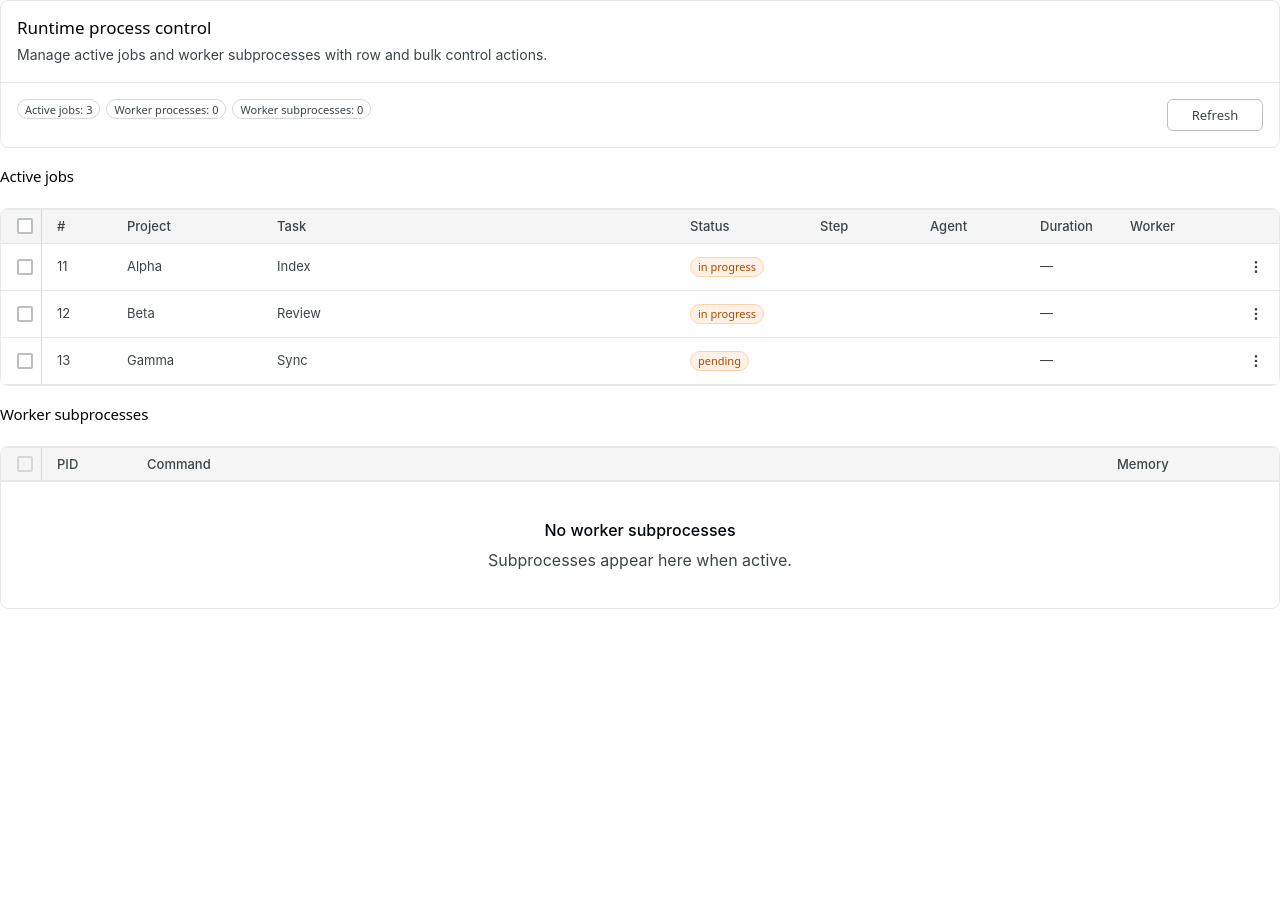
Test: ProcessesControlPanel › asks before cancelling a job and names it as an irreversible action
Click the button named "Actions for job 12". click: (1256, 314)
box: top-left (1240, 298), bottom-right (1272, 330)
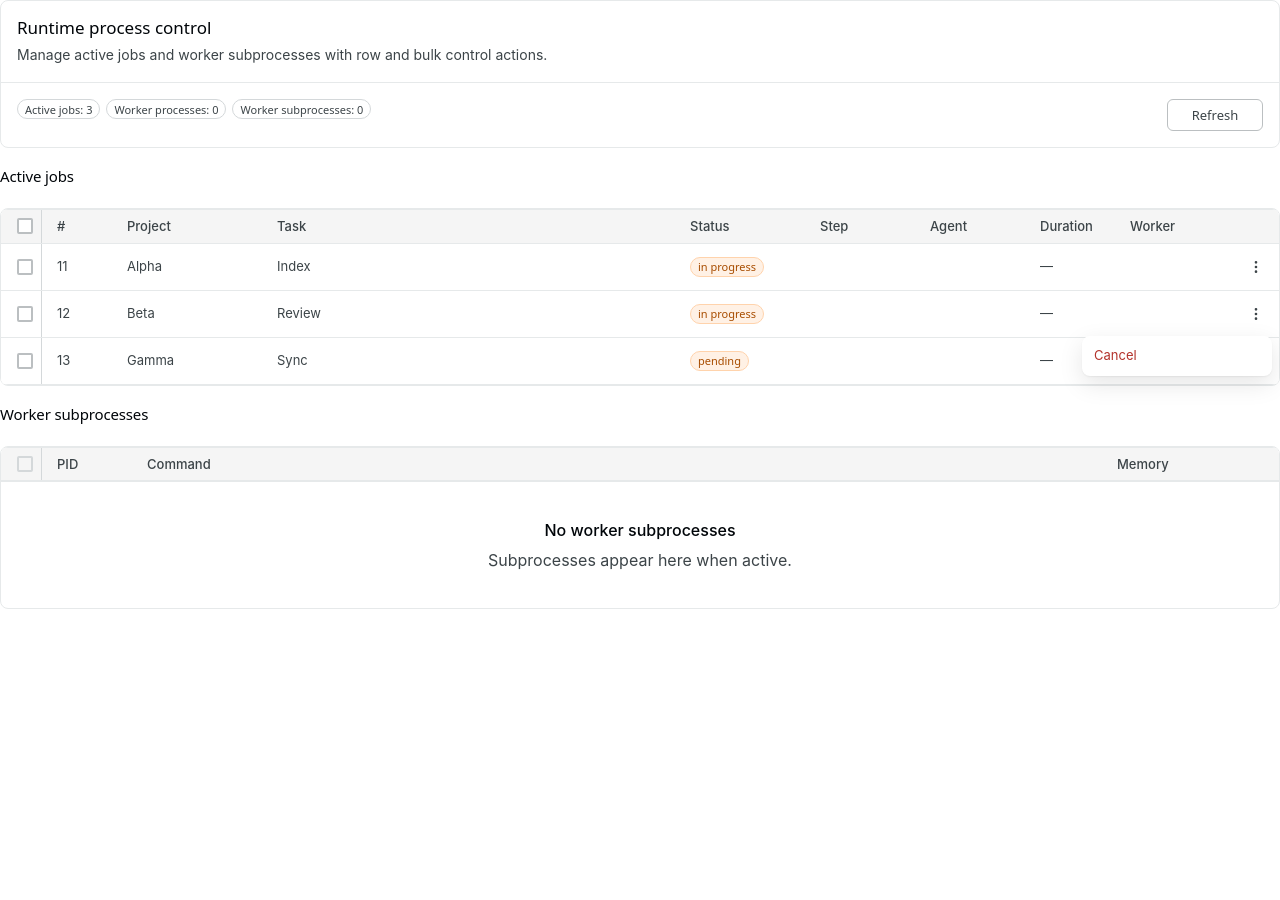
Click the menu item "Cancel". click: (1177, 356)
box: top-left (1086, 340), bottom-right (1268, 372)
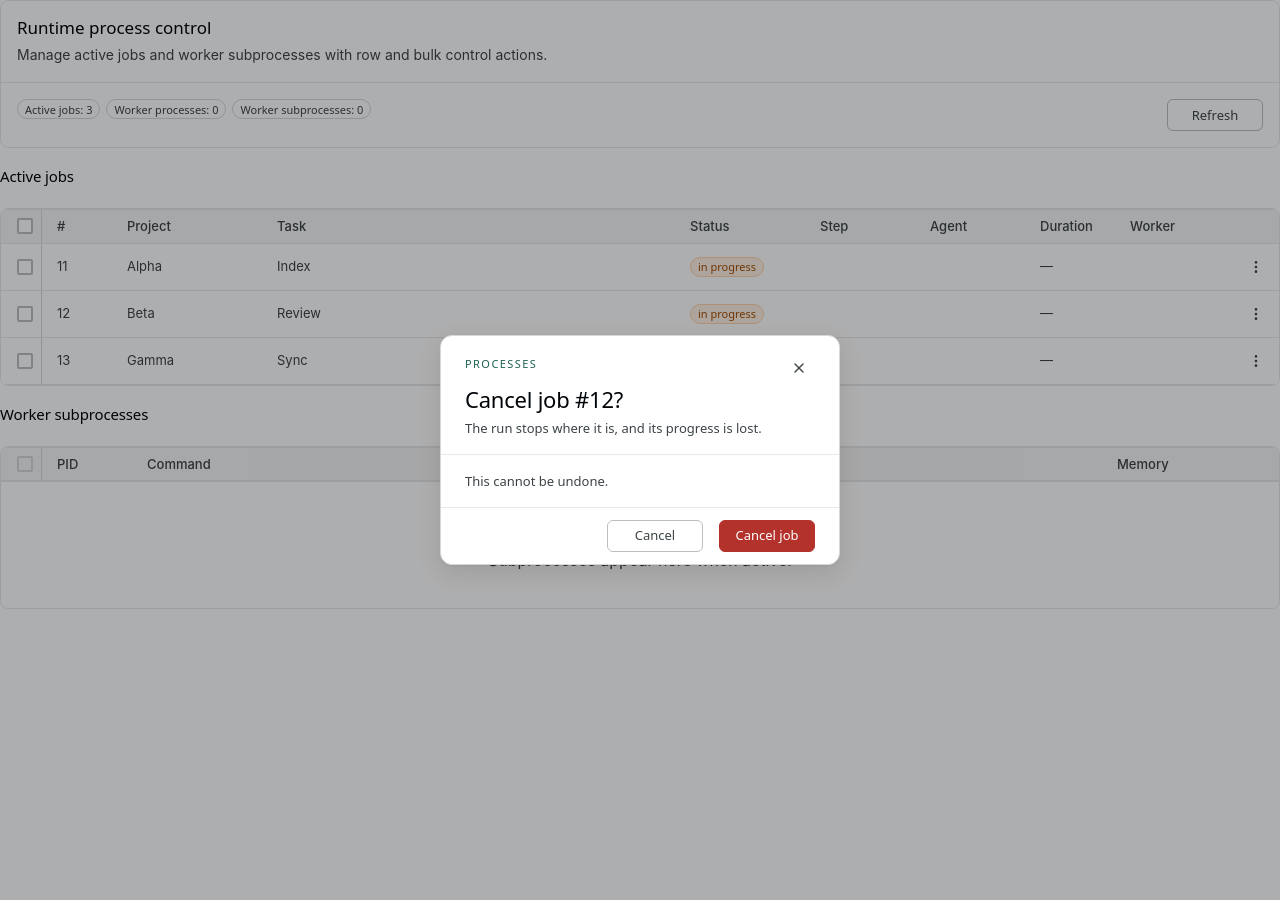
Expected: the dialog "Cancel job #12?" shows "The run stops where it is, and its progress is lost.", top-left (465, 419), bottom-right (762, 437)
Expected: the text "This cannot be undone." is shown, top-left (465, 472), bottom-right (608, 490)
Click the button "Cancel job". click: (767, 536)
box: top-left (719, 520), bottom-right (815, 552)
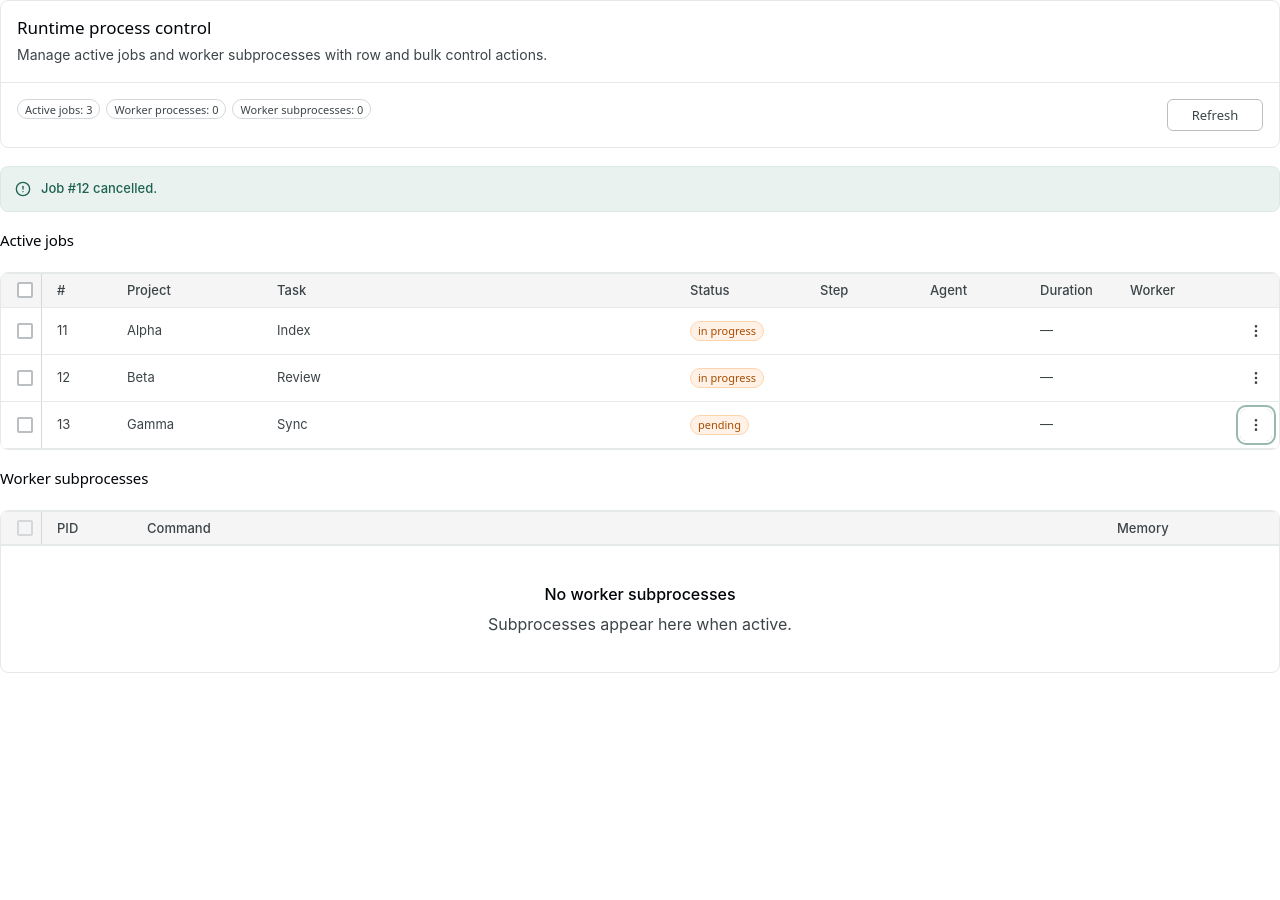
Expected: the dialog is gone
Expected: the text "Job #12 cancelled." is shown, top-left (41, 180), bottom-right (157, 196)
